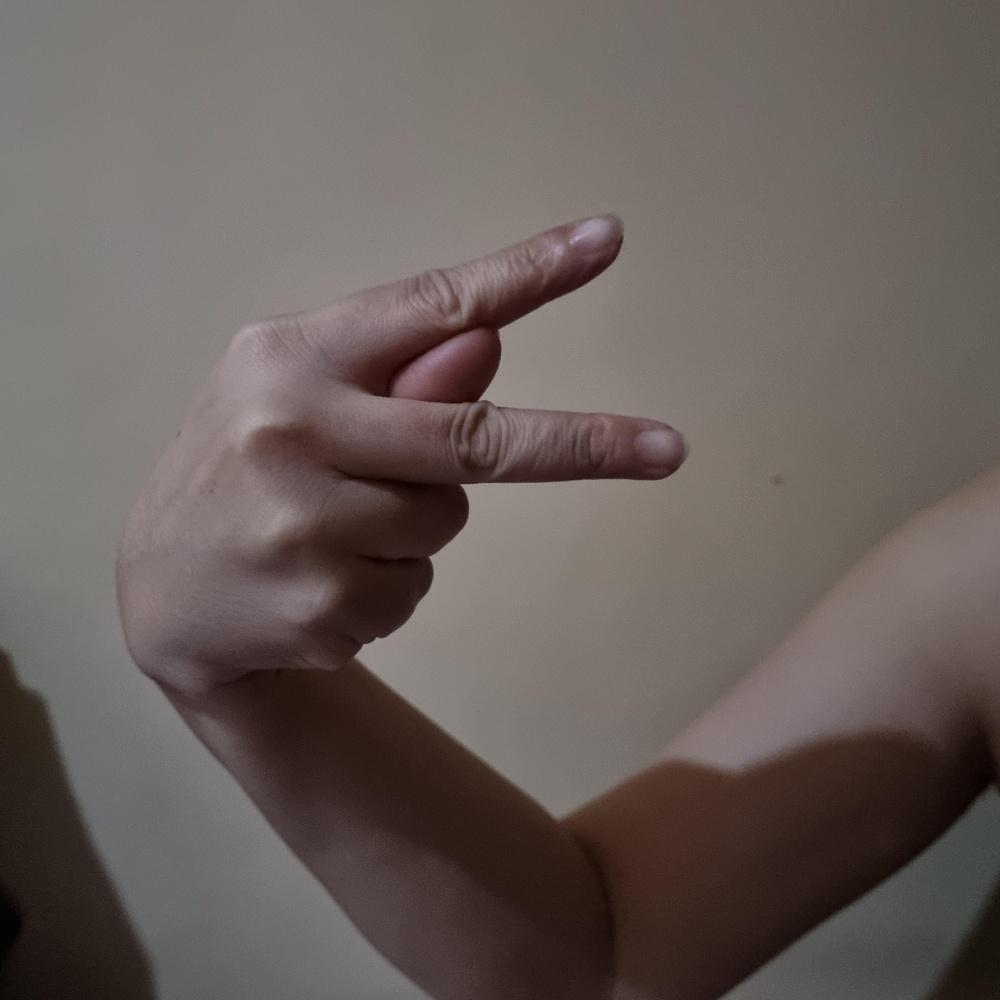k: (107, 203, 699, 682)
